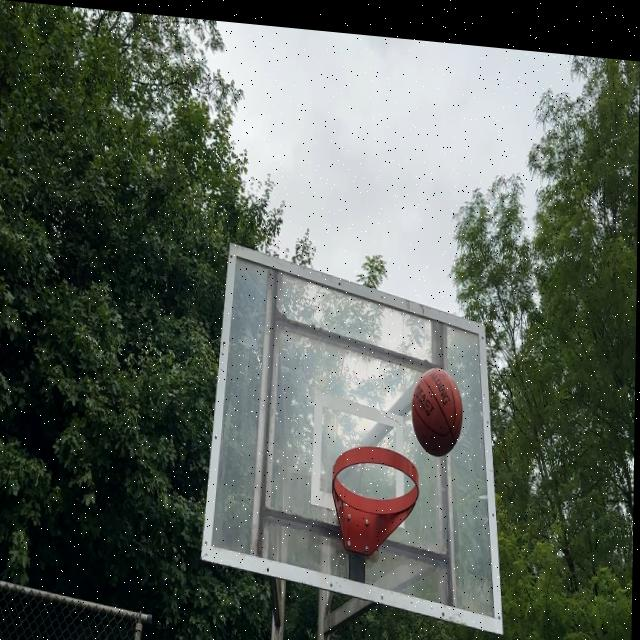Basketball: (411, 366, 464, 459)
